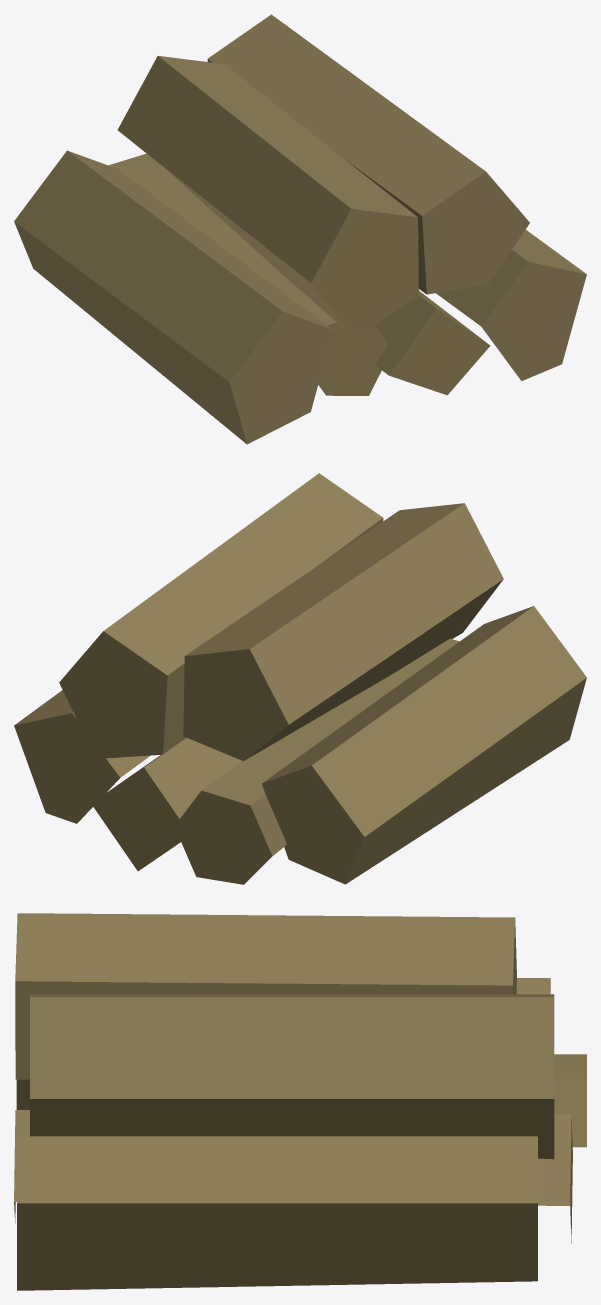
File: woodpile_03.fbx
3 renders of one model, top to bottom at view 1: azimuth 30°, elevation 25°; view 2: azimuth 150°, elevation 25°; view 3: azimuth 270°, elevation 25°, orthographic. The views are drawn at different scales.
Parts seen in each view (by area): view 1: woodpile_03; view 2: woodpile_03; view 3: woodpile_03.
Part boxes in pixels (<box>): woodpile_03: <box>14,14,586,444</box>; woodpile_03: <box>14,473,586,884</box>; woodpile_03: <box>14,913,586,1290</box>.
Bounding box in the file's own units: 1.48 × 0.8951 × 1.68.
